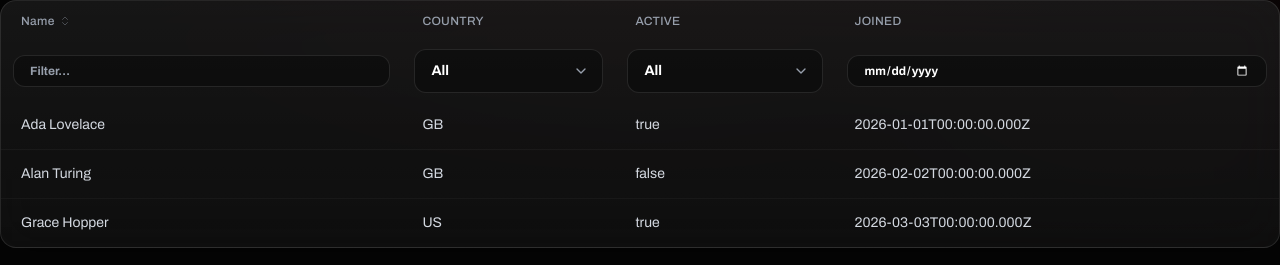
Test case: DataTable › text filter matches case-insensitive substring
In the field named "Filter Name": (202, 71) left=13, top=55, right=390, bottom=87, type "turing"
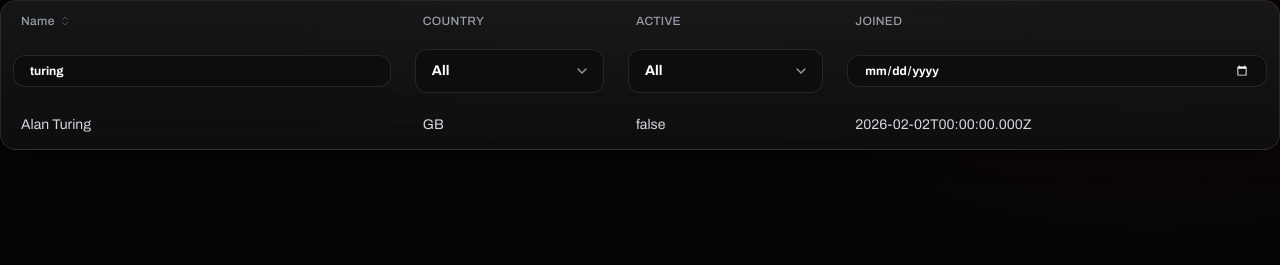
Expected: the text "Alan Turing" is shown, left=1, top=101, right=403, bottom=149
Expected: the text "Ada Lovelace" is gone
